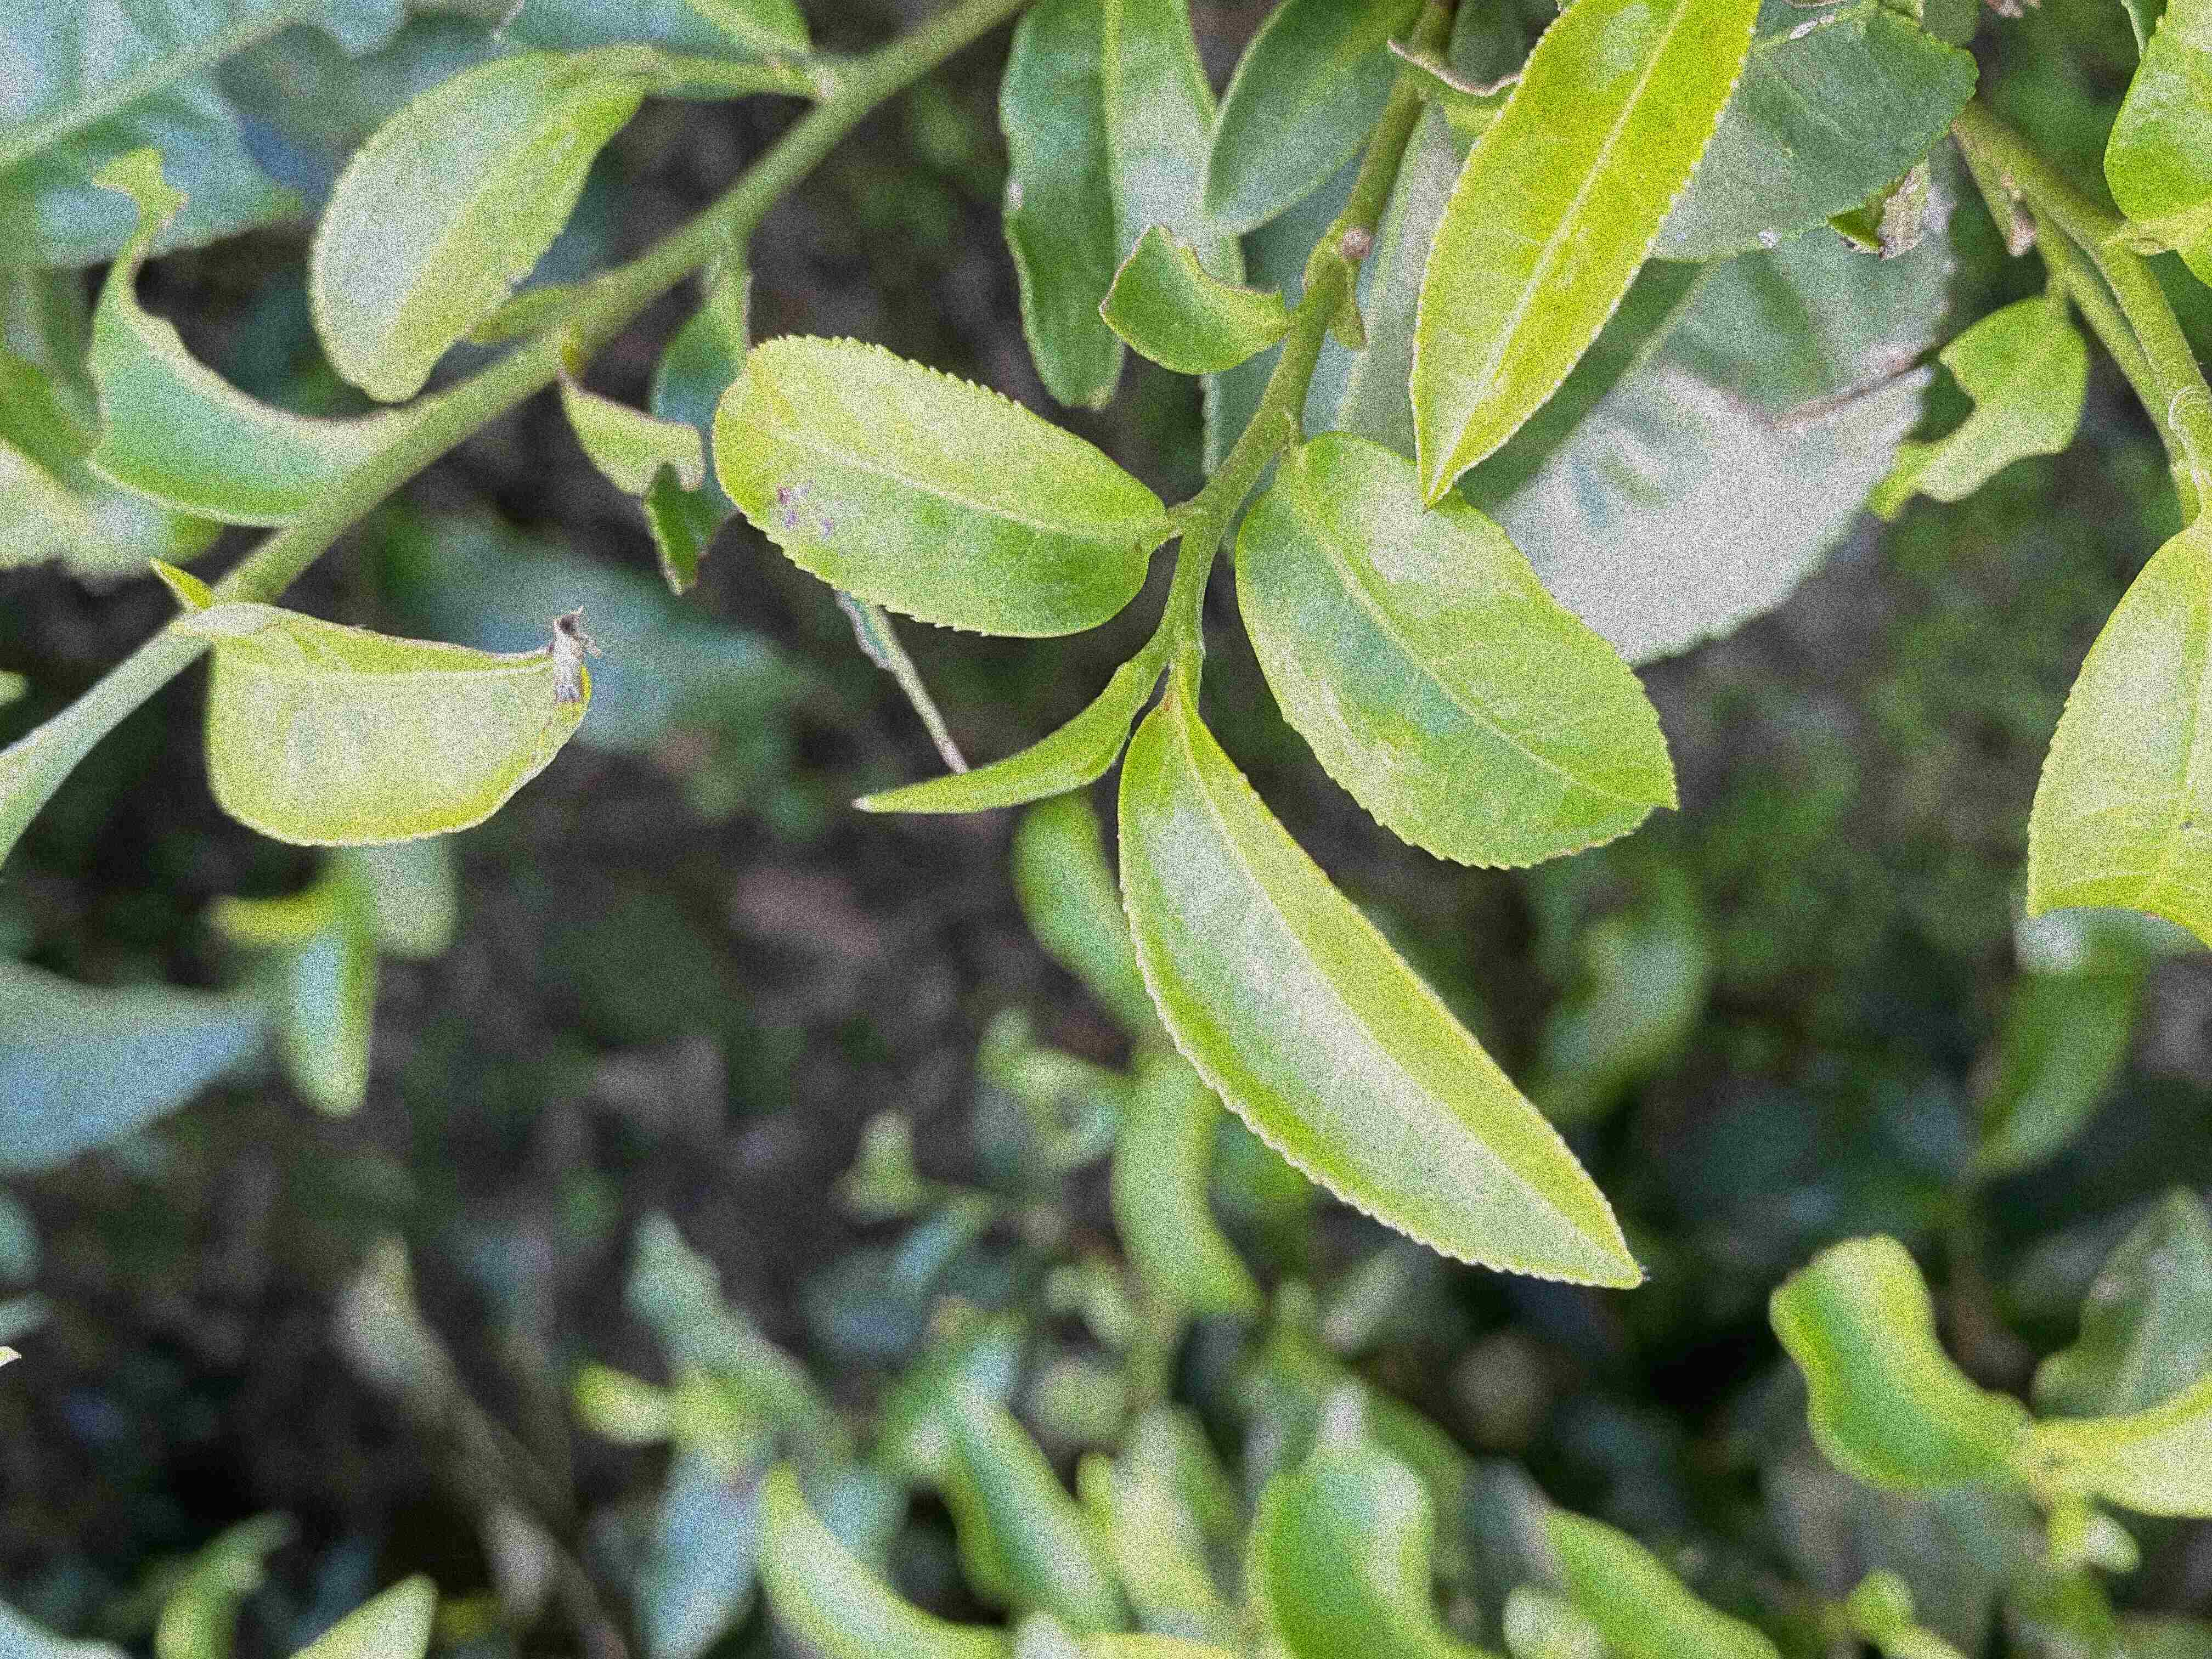chihuo_high: (639, 258, 975, 781), (77, 153, 444, 530), (1099, 218, 1287, 373), (547, 329, 702, 500)
healthy: (1113, 680, 1646, 1290), (1230, 423, 1679, 866), (1404, 0, 1773, 518)
tanju_high: (167, 599, 601, 849)
tanju_low: (709, 328, 1155, 638)
